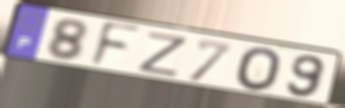7: (191, 38, 234, 84)
8: (46, 17, 90, 64)
9: (285, 55, 327, 100)
F: (87, 20, 144, 70)
O: (234, 46, 284, 93)
Z: (135, 30, 191, 79)
